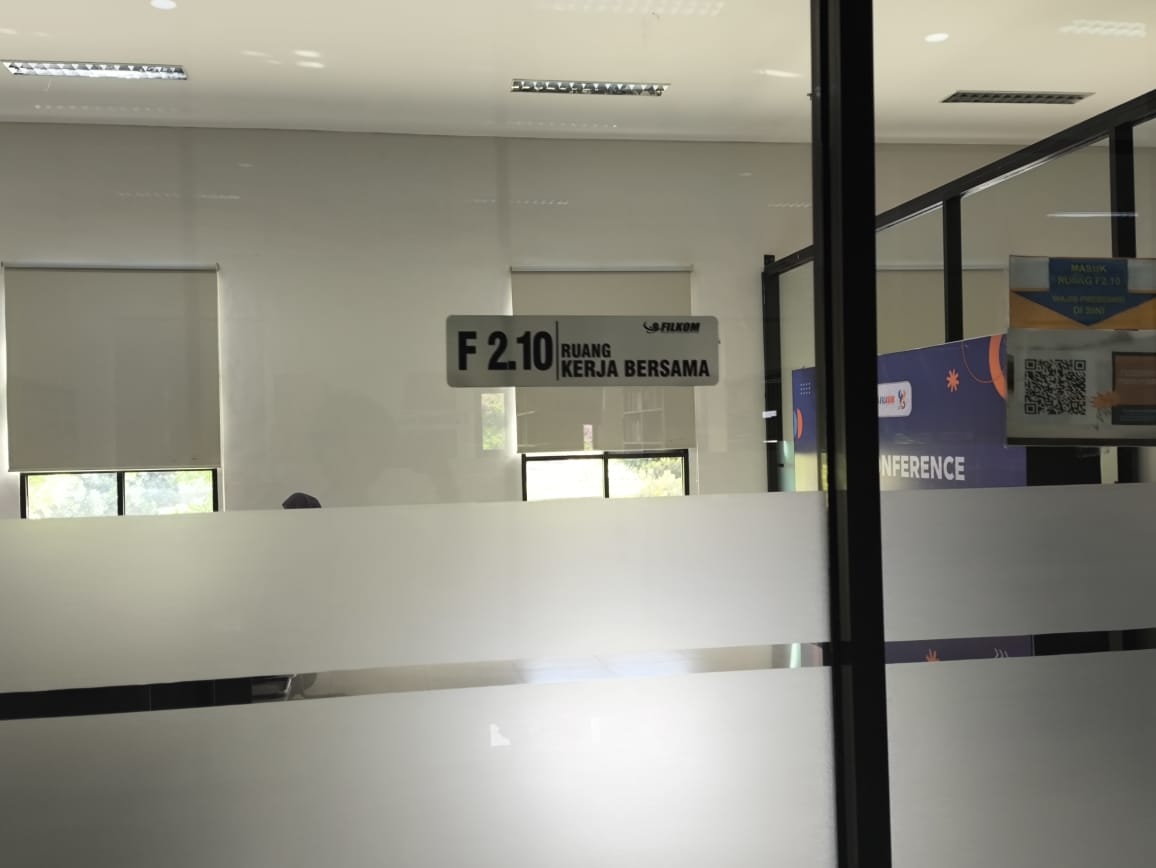ruangan: (431, 303, 726, 398)
